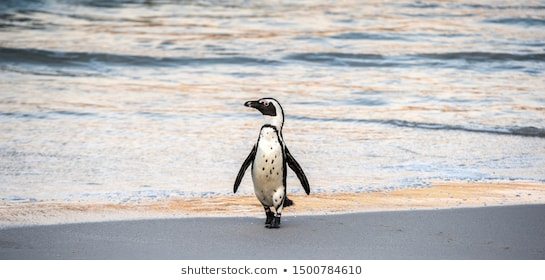penguin: (217, 79, 326, 242)
